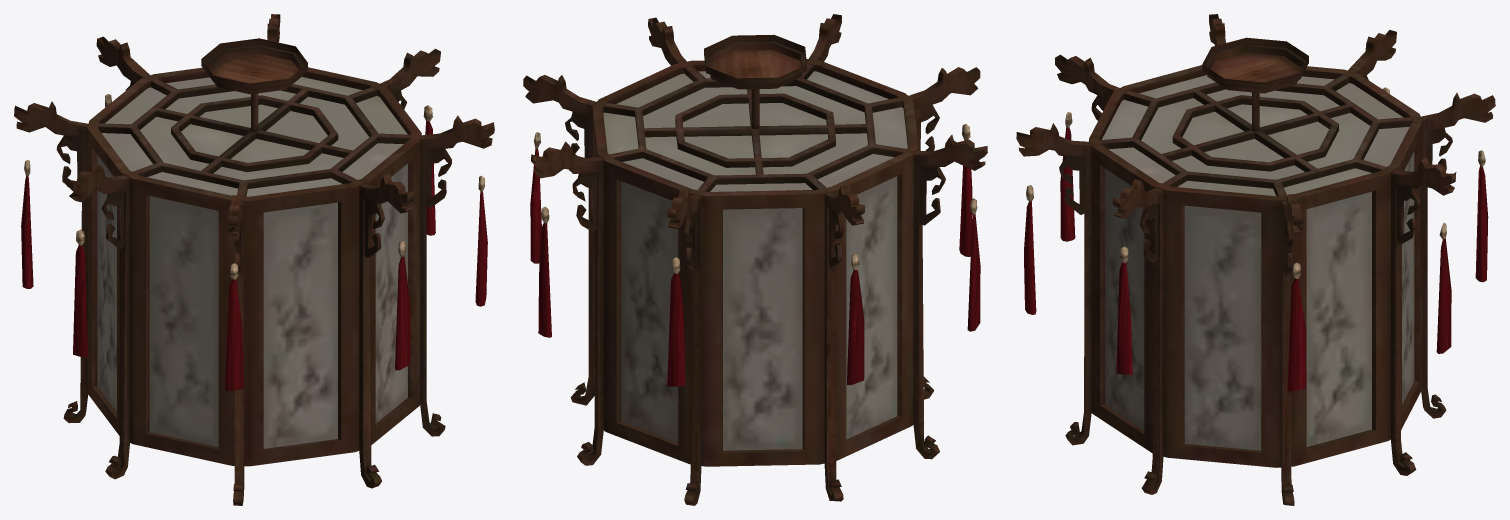
Rendered from chinese_chandelier.glb.
3 renders of one model, left to right at view 1: azimuth 30°, elevation 25°; view 2: azimuth 150°, elevation 25°; view 3: azimuth 270°, elevation 25°, orthographic.
Parts seen in each view (by area): view 1: chinese_chandelier; view 2: chinese_chandelier; view 3: chinese_chandelier.
Part boxes in pixels (left/top/right/bottom): chinese_chandelier: left=14, top=14, right=494, bottom=505; chinese_chandelier: left=523, top=14, right=987, bottom=505; chinese_chandelier: left=1016, top=14, right=1495, bottom=505.
Size of the model in its own units: 0.8772 by 0.7478 by 0.878.
Materials: 1 (1 with a texture image).
